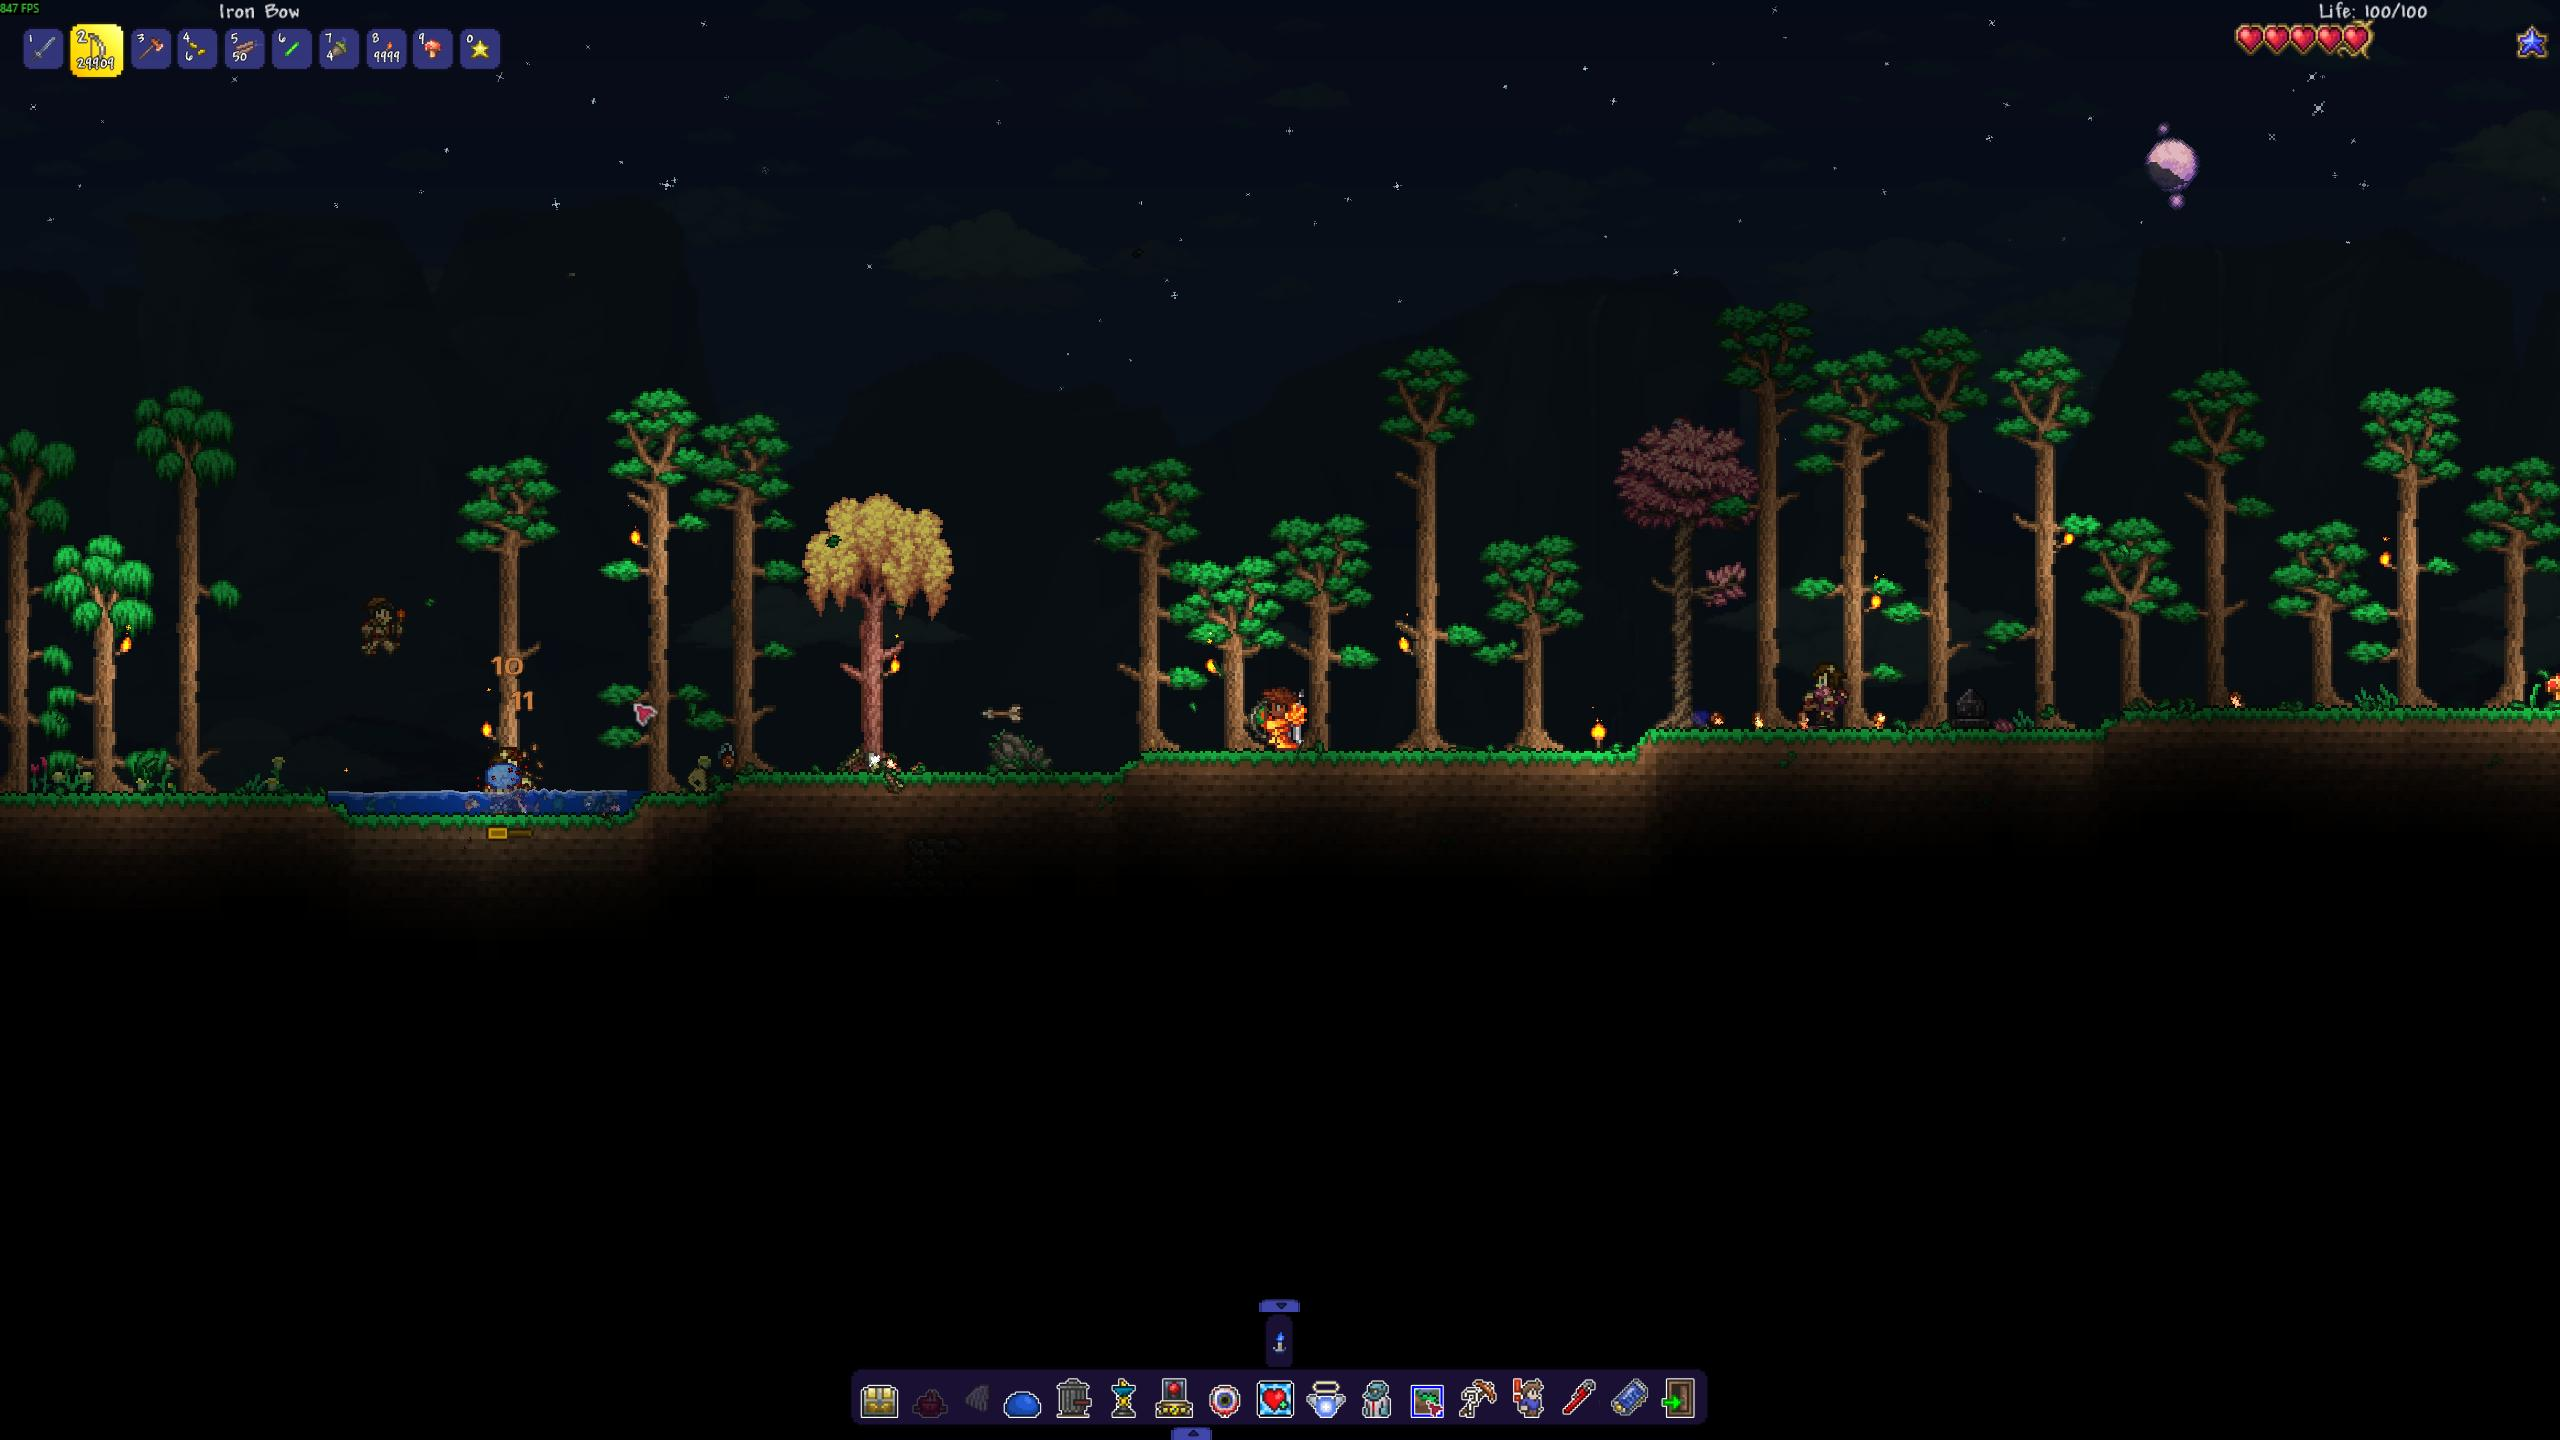Zombie: (357, 591, 411, 661), (482, 742, 535, 814), (1799, 659, 1848, 730)
